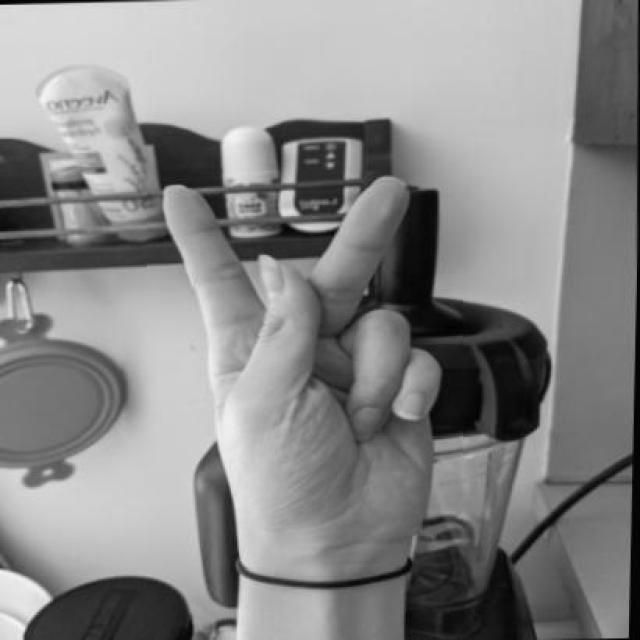K: (147, 172, 463, 570)
